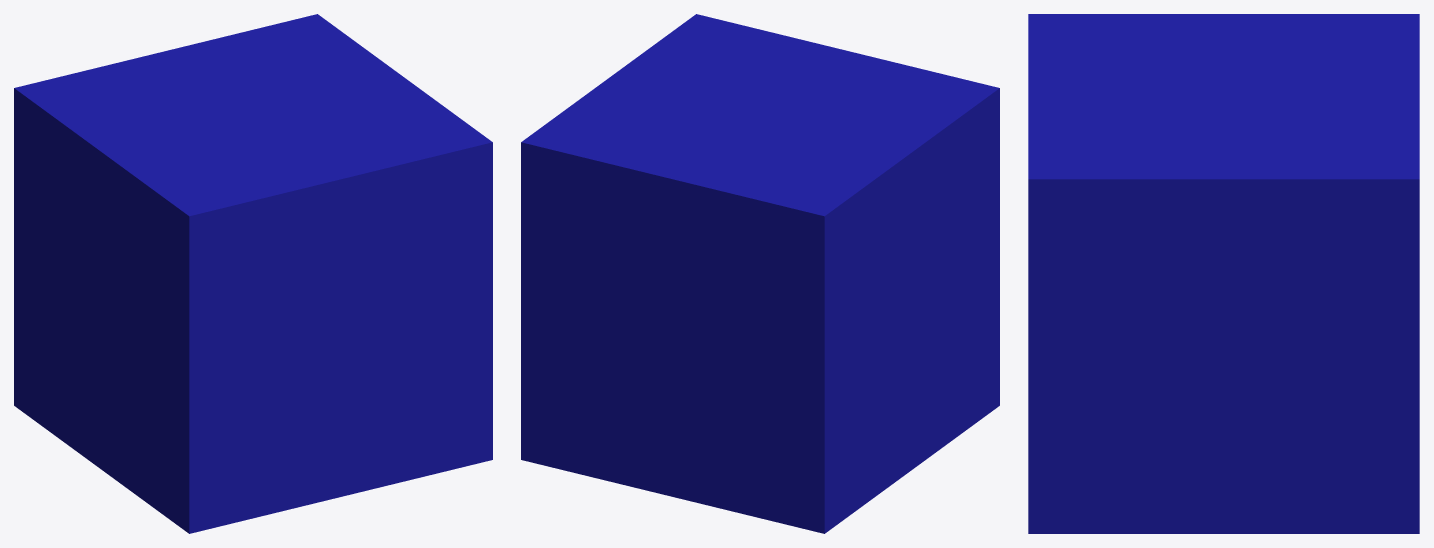
The model's file is shrine_bowl_B_unbk.DAE.
The picture shows the model from 3 angles, left to right: view 1: azimuth 30°, elevation 25°; view 2: azimuth 150°, elevation 25°; view 3: azimuth 270°, elevation 25°; orthographic projection. The views are drawn at different scales.
Visible parts, largest first — view 1: bounds; view 2: bounds; view 3: bounds.
Part boxes in pixels (box(x1,y1,x2,y2)): bounds: box(14, 14, 492, 533); bounds: box(521, 14, 999, 533); bounds: box(1028, 14, 1419, 533).
Bounding box in the file's own units: 2 × 2 × 2.
